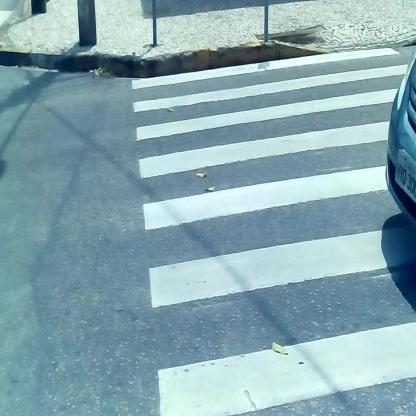crosswalk: (123, 78, 409, 416)
sidewalk: (14, 2, 416, 77)
